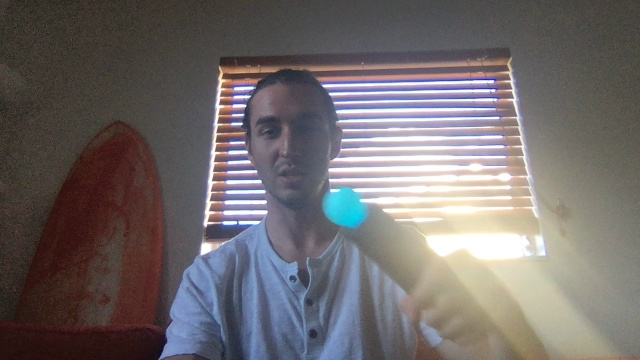wand: (325, 188, 367, 229)
